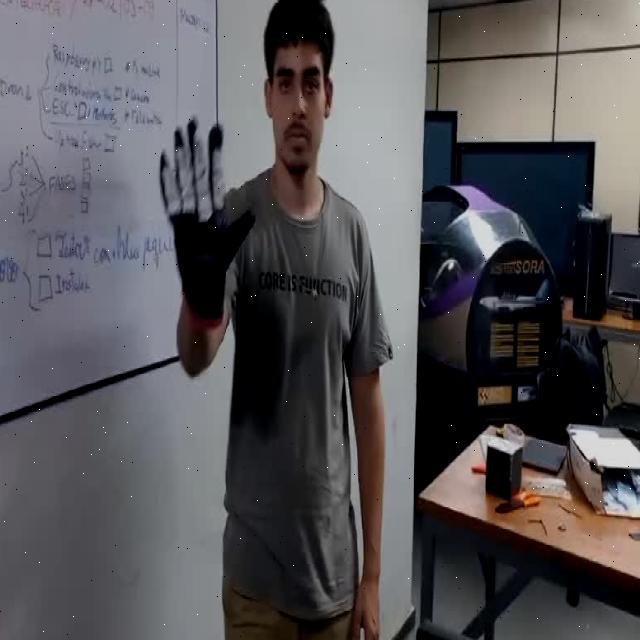Gloves: (156, 110, 256, 323)
